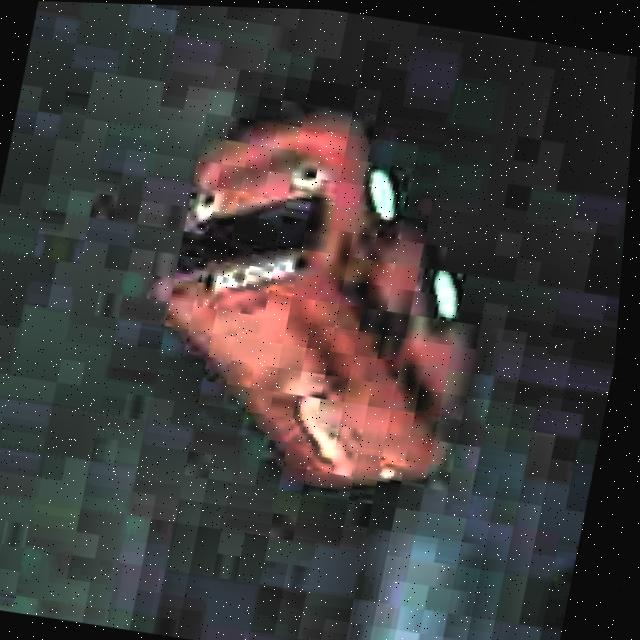bus: (116, 68, 533, 515)
